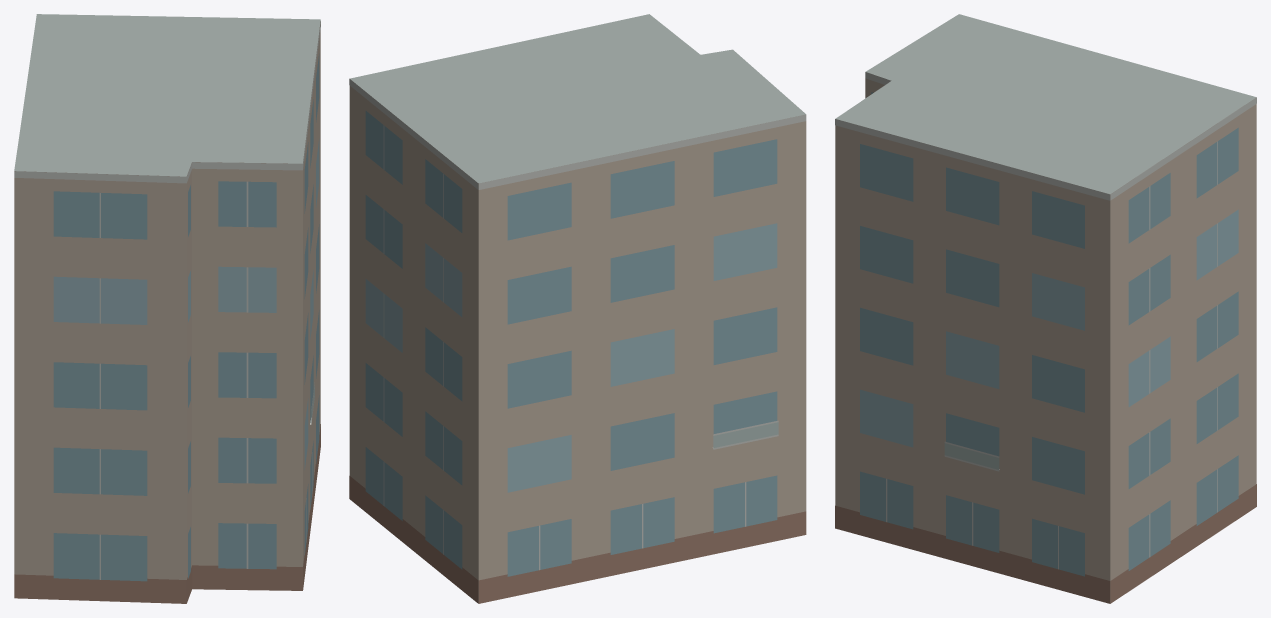
Rendered from survey-upis-32893500.glb.
3 views of the same model, side by side, from view 1: azimuth 30°, elevation 25°; view 2: azimuth 150°, elevation 25°; view 3: azimuth 270°, elevation 25° (orthographic). The views are drawn at different scales.
Parts seen in each view (by area): view 1: survey-upis-32893500.tmp; view 2: survey-upis-32893500.tmp; view 3: survey-upis-32893500.tmp.
Boxes of the visible parts, left/top/right/bottom form: survey-upis-32893500.tmp: left=14, top=14, right=320, bottom=603; survey-upis-32893500.tmp: left=349, top=14, right=806, bottom=603; survey-upis-32893500.tmp: left=835, top=14, right=1256, bottom=603.
Bounding box in the file's own units: 14.52 × 15.37 × 14.34.
